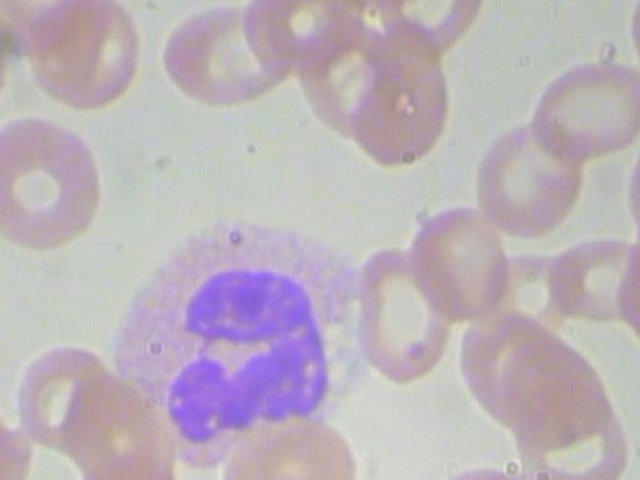RBC: (0, 111, 122, 266), (157, 0, 307, 112), (404, 199, 518, 322), (471, 116, 585, 239), (522, 54, 640, 165)
WBC: (102, 210, 399, 480)
